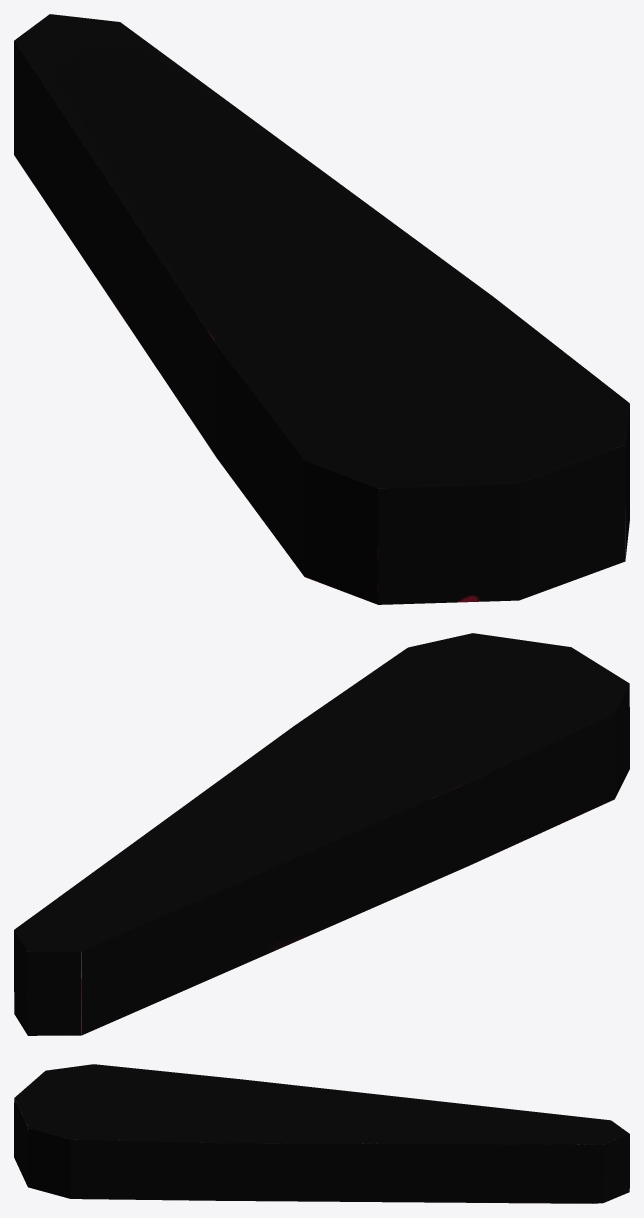
The model's file is ViolinTapa.obj.
3 views of the same model, one above another, from view 1: azimuth 30°, elevation 25°; view 2: azimuth 150°, elevation 25°; view 3: azimuth 270°, elevation 25° (orthographic). The views are drawn at different scales.
Visible parts, largest first — view 1: ViolinTapa; view 2: ViolinTapa; view 3: ViolinTapa.
Part boxes in pixels (<box>): ViolinTapa: <box>14,14,629,604</box>; ViolinTapa: <box>14,633,629,1035</box>; ViolinTapa: <box>14,1064,629,1203</box>.
Bounding box in the file's own units: 1.75 × 0.6442 × 5.78.
1 material, 1 textured.
